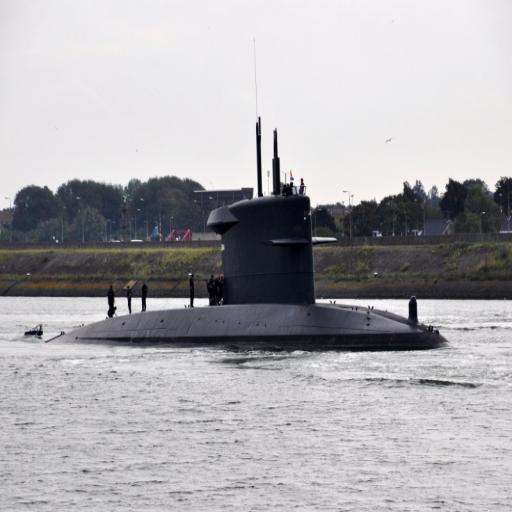submarine: (23, 113, 451, 342)
